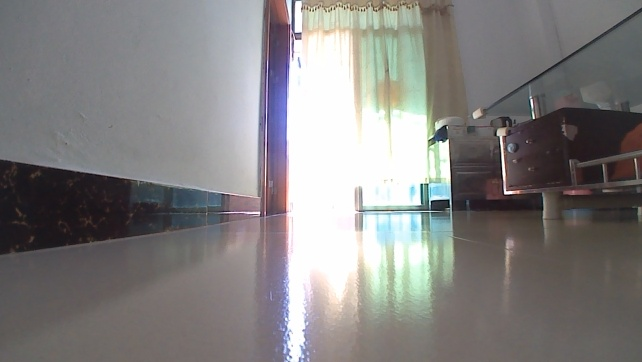tea_table1: (470, 6, 641, 223)
